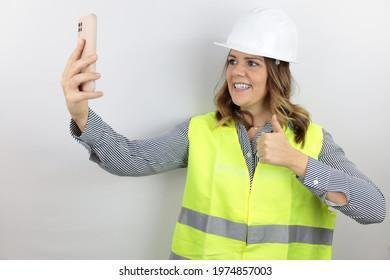helmet: (213, 7, 300, 64)
